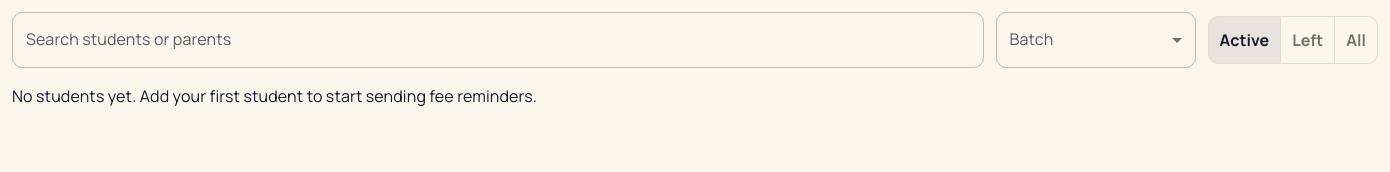
Test: StudentList › invites the first student when there are none, and says when nothing matches
The width and height of the screenshot is (1390, 172).
Expected: the text "No students yet. Add your first student to start sending fee reminders." is shown, [12,85,537,107]
Click the button "Left".
click(1308, 40)  # box [1280,16,1335,64]
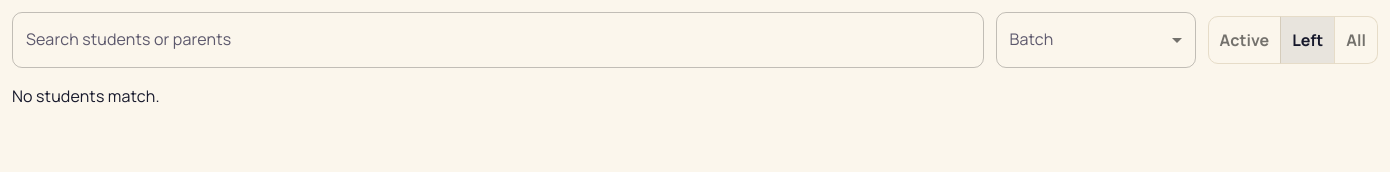
Expected: the text "No students match." is shown, [12,85,160,107]
